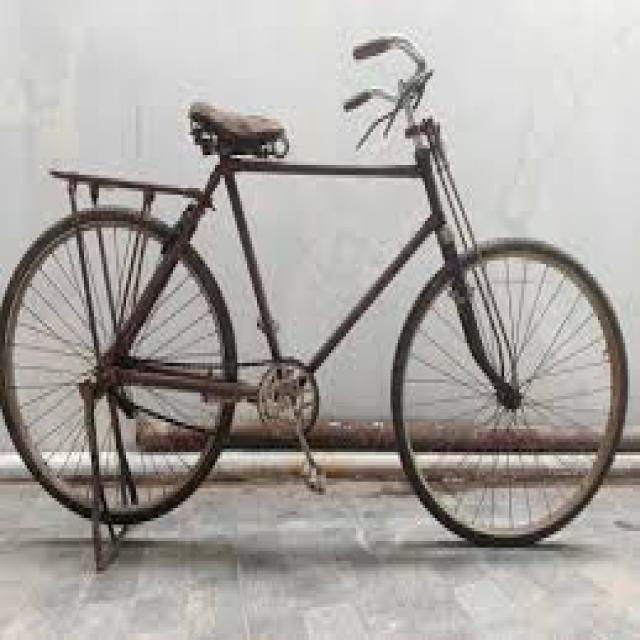bicycle: (10, 41, 626, 546)
